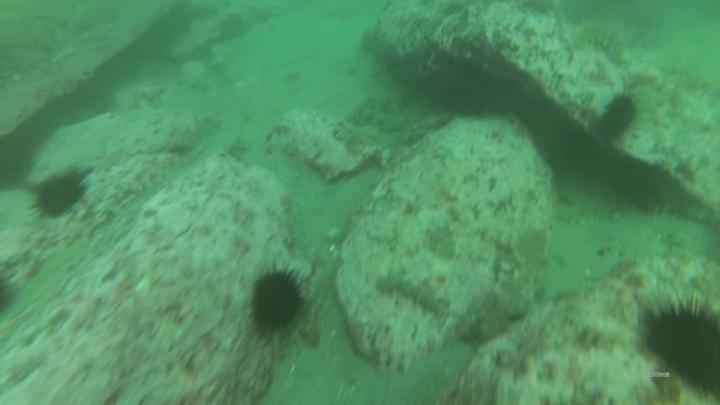echinus: (639, 288, 720, 405), (248, 254, 316, 343), (29, 168, 92, 222), (605, 87, 641, 136)
holothurian: (376, 271, 452, 322), (576, 16, 630, 67), (350, 103, 410, 134), (345, 126, 378, 155)
